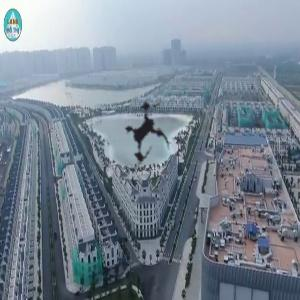drone: (86, 72, 207, 193)
